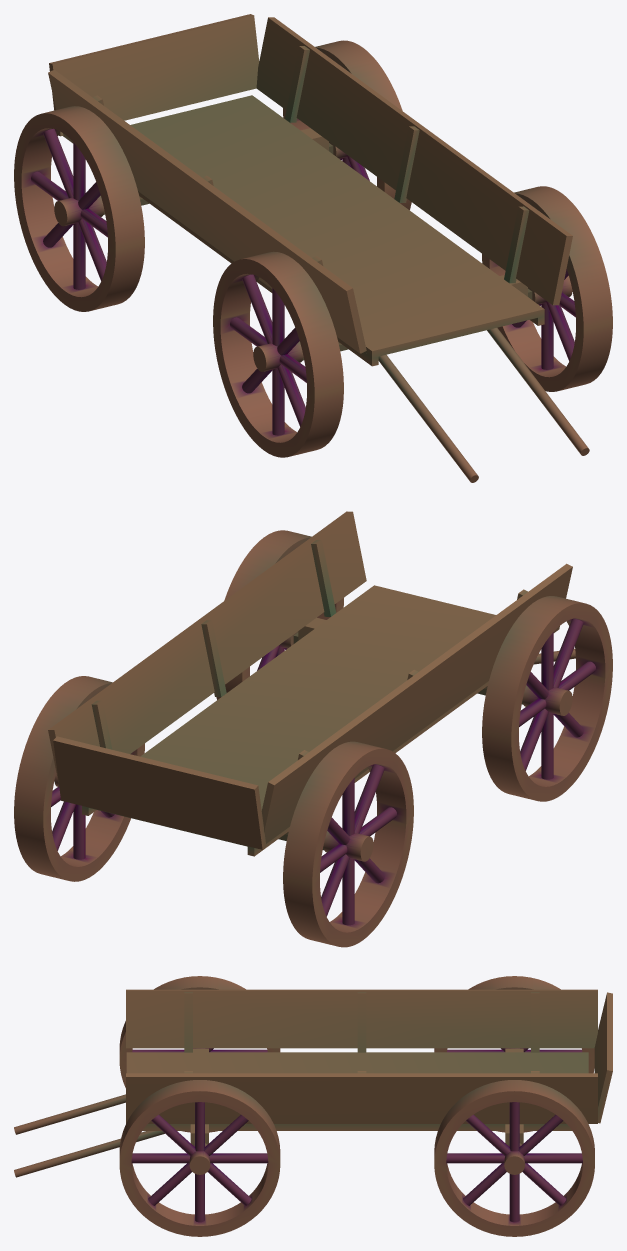
3 views of the same model, one above another, from view 1: azimuth 30°, elevation 25°; view 2: azimuth 150°, elevation 25°; view 3: azimuth 270°, elevation 25° (orthographic). The views are drawn at different scales.
Parts seen in each view (by area): view 1: floor, board, rim.003, rim.001, end_board, board.001, rim, rim.002, shaft, shaft.003, upright.001, upright.002 (+2 smaller); view 2: floor, board, rim.003, rim.001, end_board, board.001, rim.002, rim, upright.002, upright.001, rail.001, upright.003; view 3: board.001, board, rim.002, rim, floor, rail.002, rim.001, rim.003, end_board, shaft, shaft.003, upright.005 (+2 smaller).
Boxes of the visible parts, x1,y1,x2,y2 form: floor: (130,95,544,357); board: (256,17,572,305); rim.003: (14,106,144,311); rim.001: (213,251,343,457); end_board: (49,14,259,136); board.001: (48,69,366,353); rim: (482,186,612,391); rim.002: (283,40,411,210); shaft: (487,328,589,455); shaft.003: (378,354,478,482); upright.001: (504,206,529,283); upright.002: (394,126,419,202); floor: (82,585,495,848); board: (48,511,366,784); rim.003: (283,741,413,947); rim.001: (482,596,612,801); end_board: (53,736,266,849); board.001: (261,563,572,843); rim.002: (14,676,144,881); rim: (216,530,343,699); upright.002: (201,620,226,696); upright.001: (311,540,336,616); rail.001: (247,681,488,856); upright.003: (91,700,112,749); board.001: (126,989,597,1048); board: (126,1073,597,1123); rim.002: (434,1080,594,1236); rim: (119,1080,280,1236); floor: (126,1052,588,1124); rail.002: (142,1124,571,1130); rim.001: (119,976,280,1132); rim.003: (434,976,594,1132); end_board: (594,992,612,1123); shaft: (14,1131,164,1177); shaft.003: (14,1094,125,1134); upright.005: (357,992,366,1052).
Bounding box in the file's own units: 1.16 × 0.6751 × 2.49.
